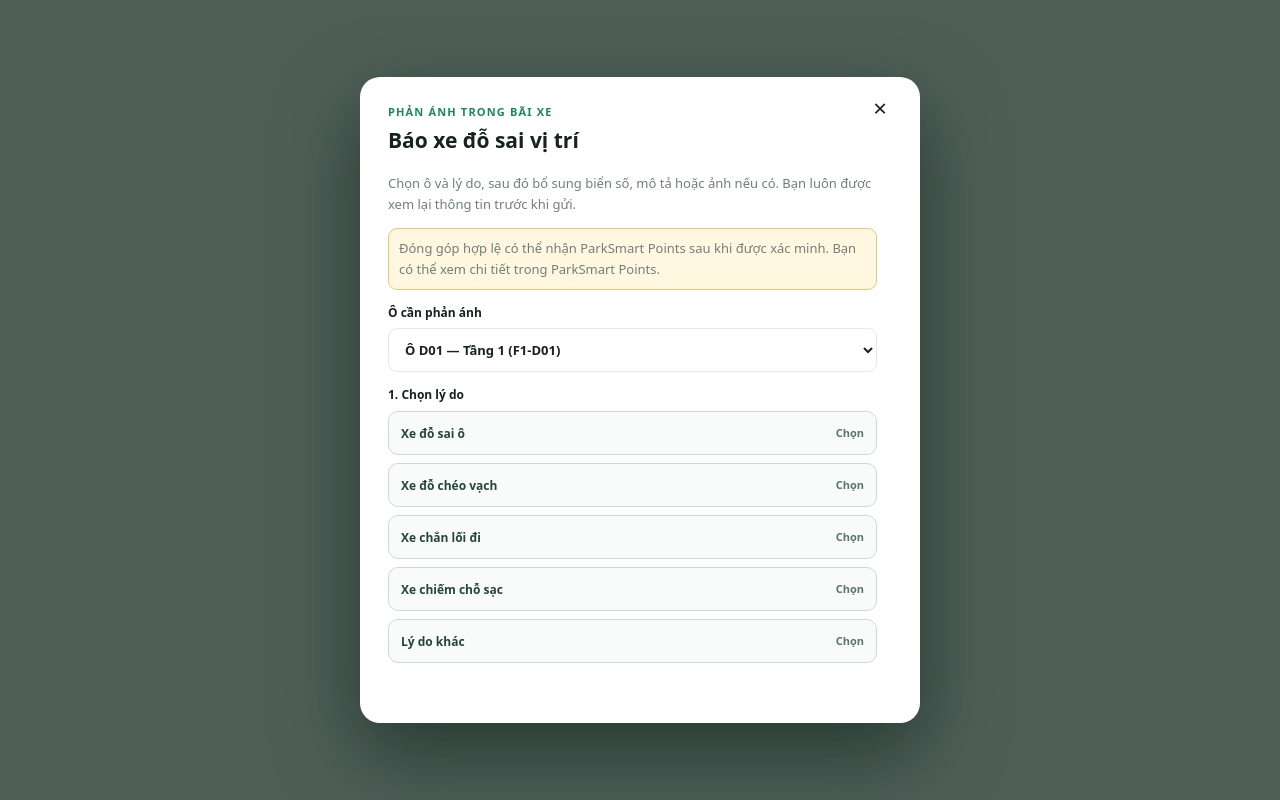
Test: WrongParkingReportDialog › reuses the same report idempotency key after an unknown transport failure
Click the button "Xe đỗ chéo vạch". click: (449, 485)
box: [388, 464, 877, 508]
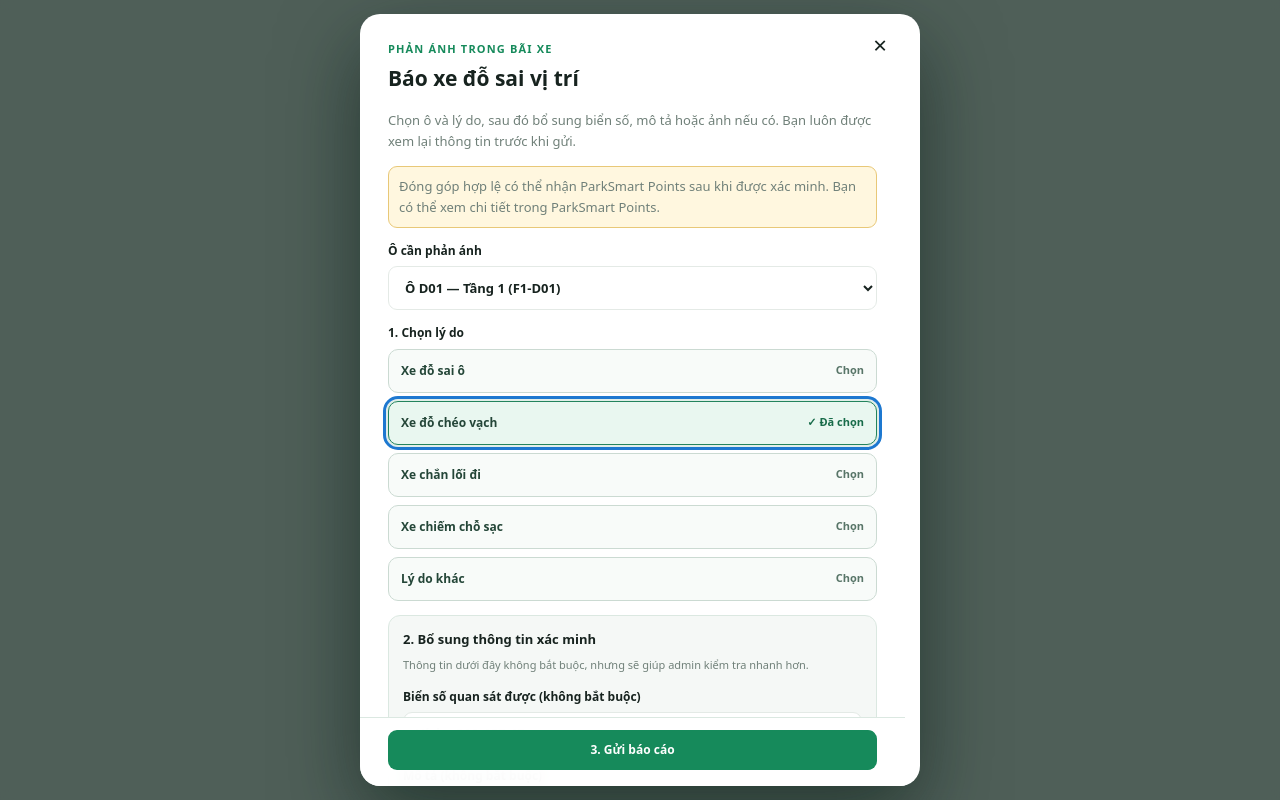
Click the button "3. Gửi báo cáo". click: (632, 750)
box: [388, 730, 877, 770]
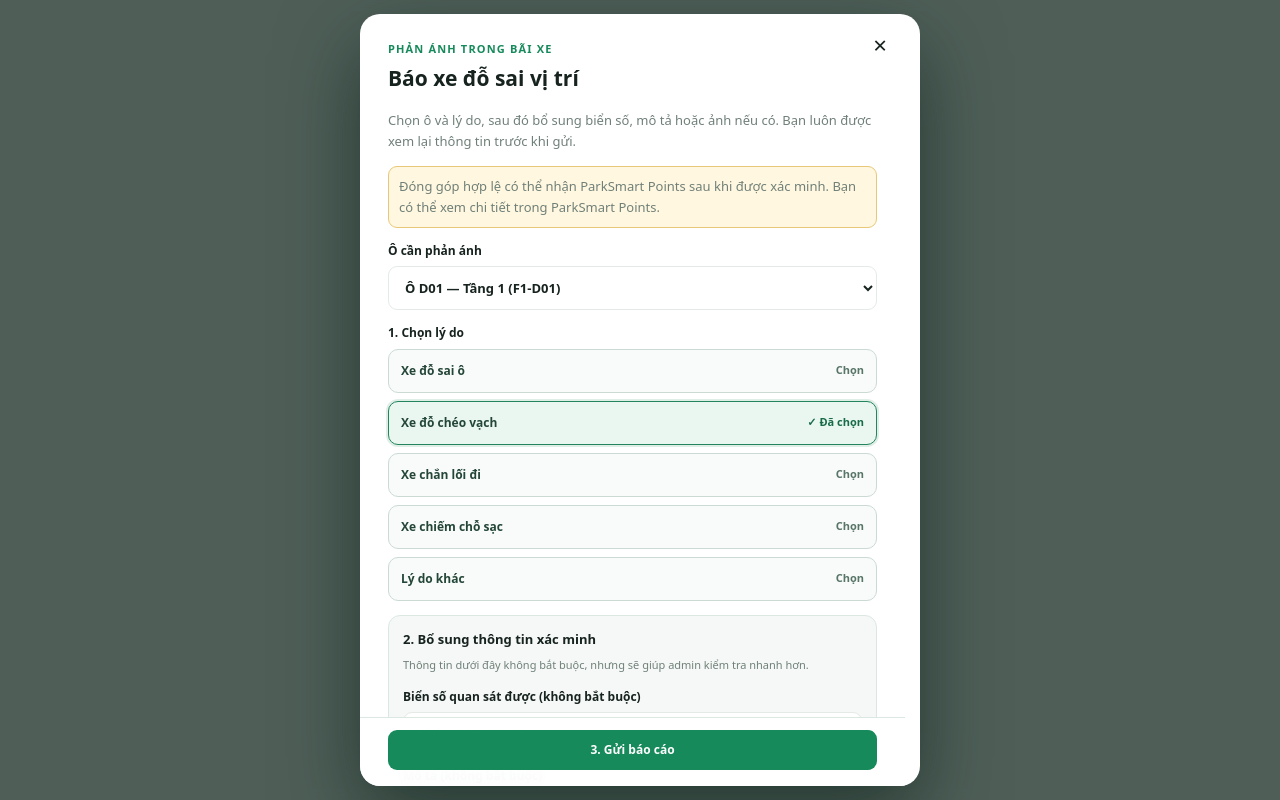
Click the button "3. Gửi báo cáo". click: (632, 750)
box: [388, 730, 877, 770]
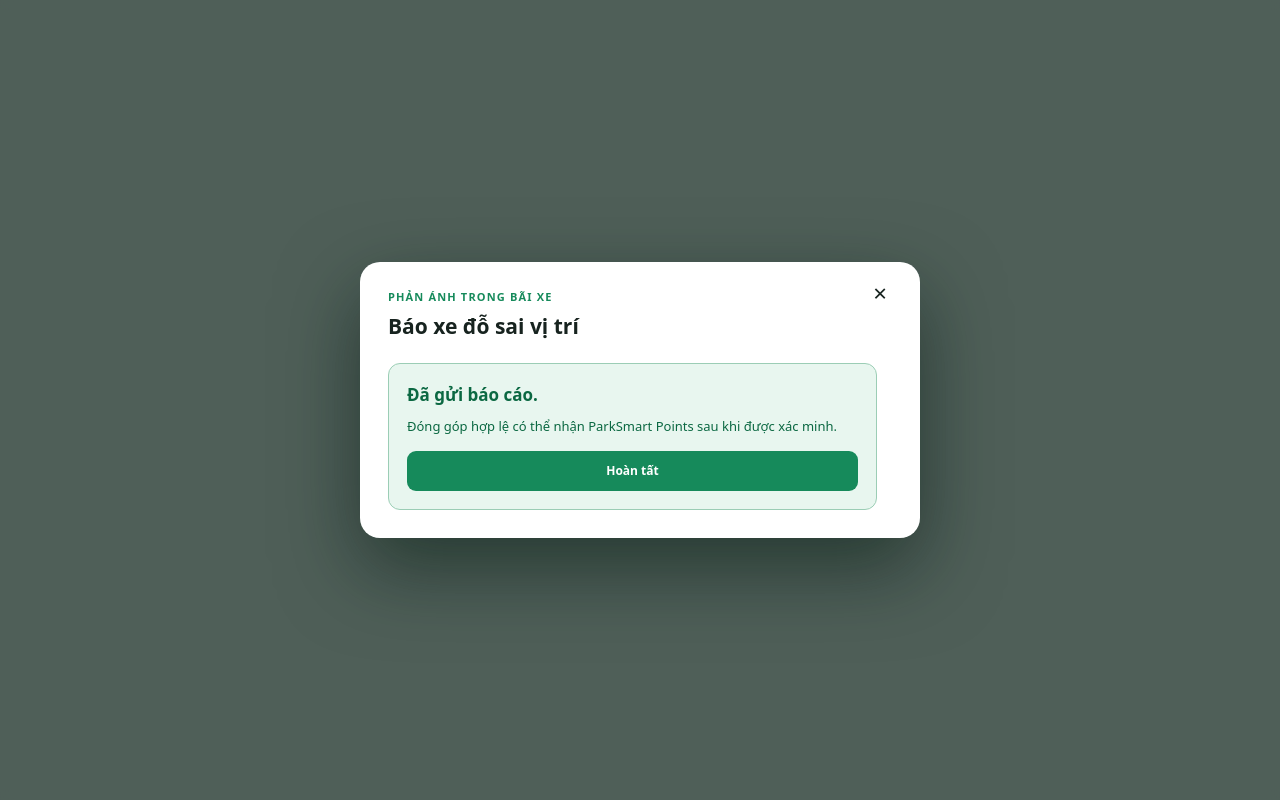
Expected: the message shows "Đã gửi báo cáo", [407, 382, 538, 406]
